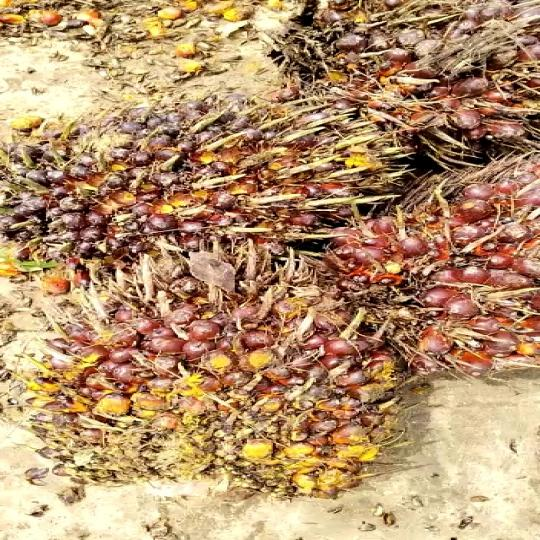masak: (29, 238, 402, 506), (0, 100, 402, 263), (351, 170, 540, 390), (264, 0, 538, 143)
